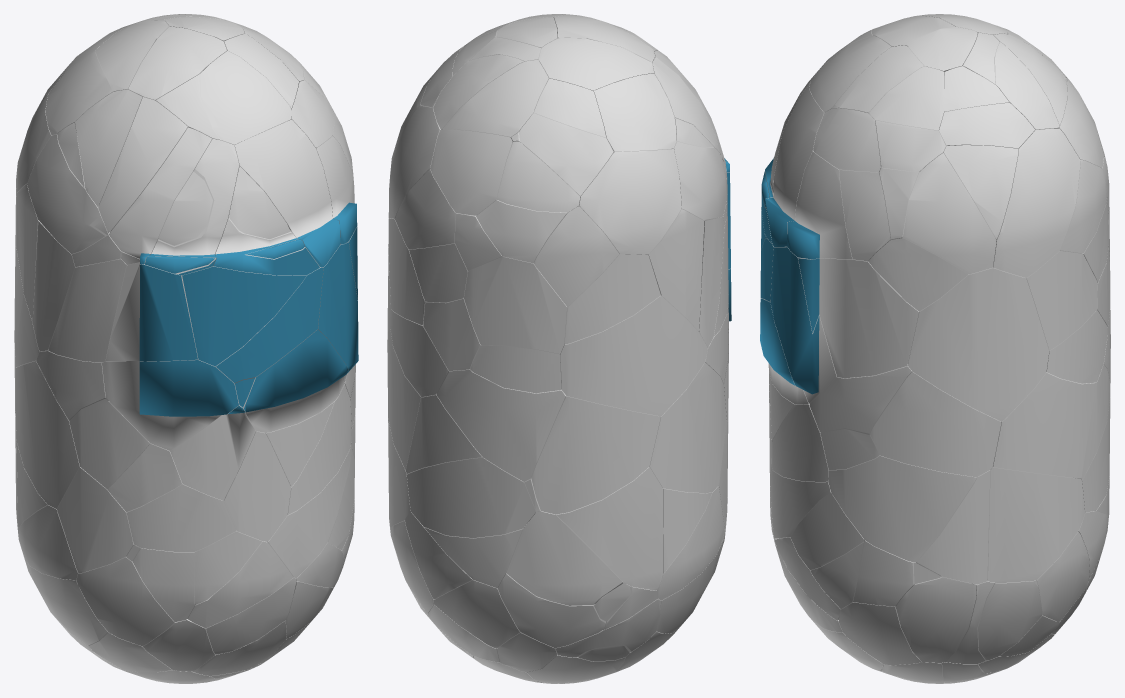
File: Fracture.fbx
The picture shows the model from 3 angles, left to right: view 1: azimuth 30°, elevation 25°; view 2: azimuth 150°, elevation 25°; view 3: azimuth 270°, elevation 25°; orthographic projection.
Parts seen in each view (by area): view 1: Capsule_cell.112, Capsule_cell.015, Capsule_cell.007, Capsule_cell.108, Capsule_cell.133, Capsule_cell.035, Capsule_cell.181, Capsule_cell.040, Capsule_cell.134, Capsule_cell.013, Capsule_cell.069, Capsule_cell.126 (+48 smaller); view 2: Capsule_cell.074, Capsule_cell.068, Capsule_cell.136, Capsule_cell.152, Capsule_cell.056, Capsule_cell.093, Capsule_cell.066, Capsule_cell.035, Capsule_cell.046, Capsule_cell.162, Capsule_cell.044, Capsule_cell.022 (+49 smaller); view 3: Capsule_cell.034, Capsule_cell.087, Capsule_cell.118, Capsule_cell, Capsule_cell.139, Capsule_cell.130, Capsule_cell.064, Capsule_cell.086, Capsule_cell.165, Capsule_cell.009, Capsule_cell.146, Capsule_cell.185 (+47 smaller).
Part boxes in pixels (<box>): Capsule_cell.112: <box>102,359,239,450</box>; Capsule_cell.015: <box>234,119,340,267</box>; Capsule_cell.007: <box>182,266,306,366</box>; Capsule_cell.108: <box>105,262,198,361</box>; Capsule_cell.133: <box>243,329,348,432</box>; Capsule_cell.035: <box>15,361,79,508</box>; Capsule_cell.181: <box>200,51,291,144</box>; Capsule_cell.040: <box>48,258,127,362</box>; Capsule_cell.134: <box>126,469,235,551</box>; Capsule_cell.013: <box>57,467,133,573</box>; Capsule_cell.069: <box>98,97,187,232</box>; Capsule_cell.126: <box>27,134,108,254</box>; Capsule_cell.074: <box>560,296,707,416</box>; Capsule_cell.068: <box>531,396,660,514</box>; Capsule_cell.136: <box>436,369,566,481</box>; Capsule_cell.152: <box>406,457,535,538</box>; Capsule_cell.056: <box>577,149,681,254</box>; Capsule_cell.093: <box>464,256,567,354</box>; Capsule_cell.066: <box>555,467,663,590</box>; Capsule_cell.035: <box>649,363,726,493</box>; Capsule_cell.046: <box>506,511,622,605</box>; Capsule_cell.162: <box>430,129,512,215</box>; Capsule_cell.044: <box>593,73,676,151</box>; Capsule_cell.022: <box>564,254,660,344</box>; Capsule_cell.034: <box>907,267,1049,421</box>; Capsule_cell.087: <box>798,258,918,378</box>; Capsule_cell.118: <box>828,455,976,562</box>; Capsule_cell: <box>988,467,1084,582</box>; Capsule_cell.139: <box>870,372,1001,476</box>; Capsule_cell.130: <box>993,128,1080,277</box>; Capsule_cell.064: <box>993,372,1096,478</box>; Capsule_cell.086: <box>903,153,996,274</box>; Capsule_cell.165: <box>770,246,836,403</box>; Capsule_cell.009: <box>895,576,976,662</box>; Capsule_cell.146: <box>787,151,852,259</box>; Capsule_cell.185: <box>1026,251,1097,350</box>.
Size of the model in its own units: 180 by 372 by 184.
